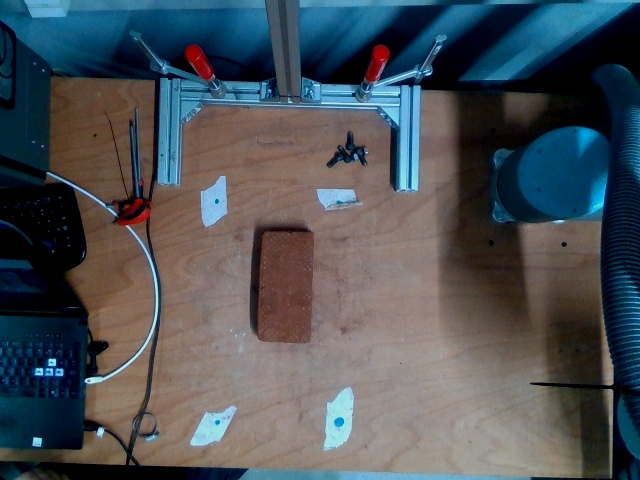brick: (258, 232, 316, 340)
